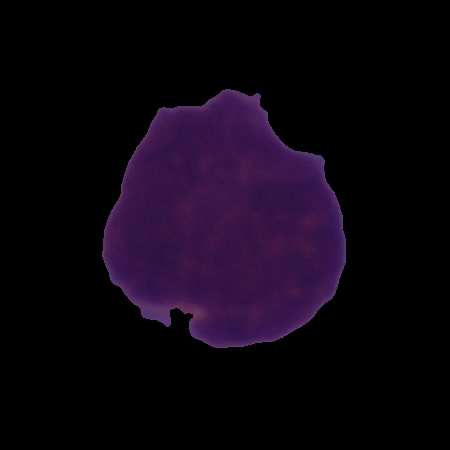ALL: (98, 85, 351, 352)
